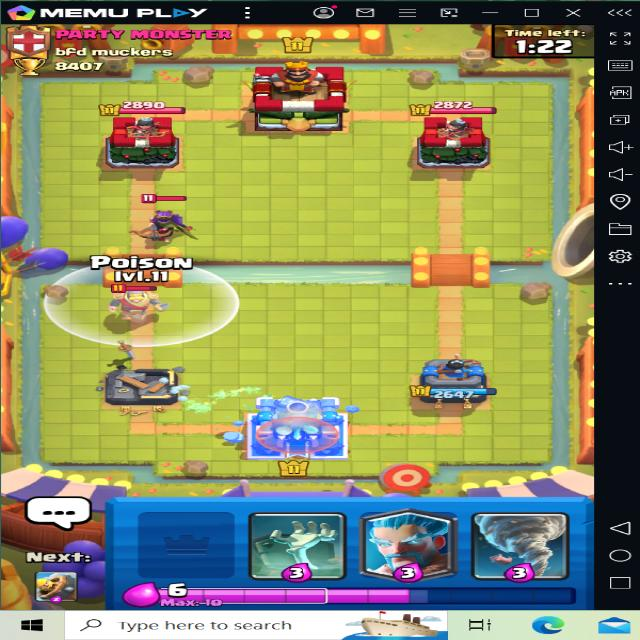archer-queen: (140, 192, 200, 242)
knight: (104, 282, 167, 322)
